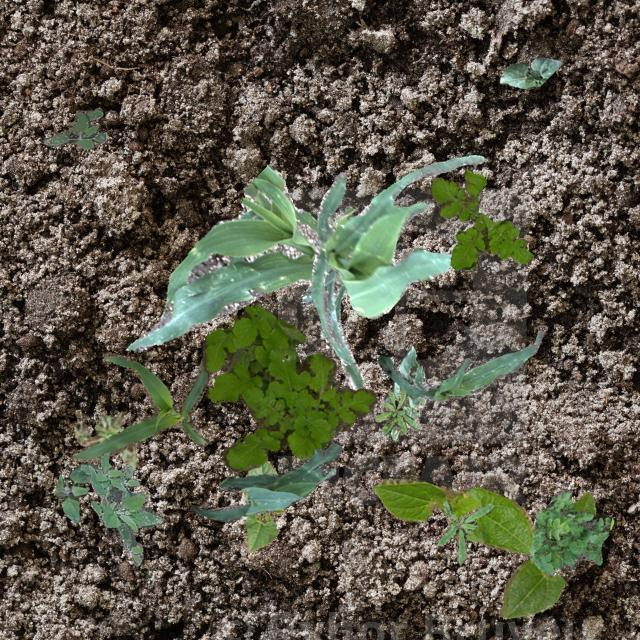crop: (125, 164, 362, 388), (311, 153, 484, 364), (70, 350, 208, 460), (372, 476, 534, 554), (498, 490, 594, 618), (190, 442, 340, 522), (377, 330, 542, 400), (382, 344, 424, 438), (242, 458, 284, 552), (498, 56, 562, 88)
weed: (202, 304, 376, 471), (430, 170, 532, 270), (80, 452, 162, 564), (528, 488, 612, 574), (436, 499, 492, 564), (72, 412, 136, 468), (42, 106, 106, 148), (53, 463, 95, 521), (374, 388, 422, 433)
